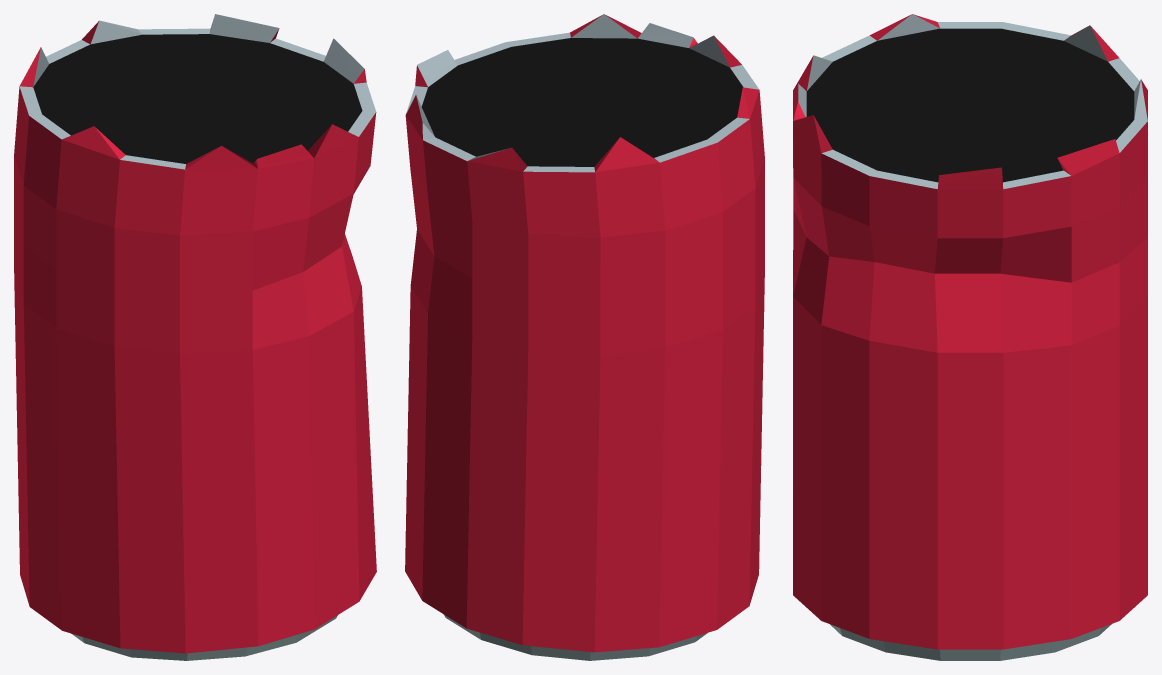
The model's file is can_red.fbx.
3 views of the same model, side by side, from view 1: azimuth 30°, elevation 25°; view 2: azimuth 150°, elevation 25°; view 3: azimuth 270°, elevation 25° (orthographic).
Visible parts, largest first — view 1: Cube.010; view 2: Cube.010; view 3: Cube.010.
Boxes of the visible parts, <box> form: Cube.010: <box>14,14,376,660</box>; Cube.010: <box>405,14,764,660</box>; Cube.010: <box>793,14,1147,660</box>.
Bounding box in the file's own units: 204 × 335 × 200.
